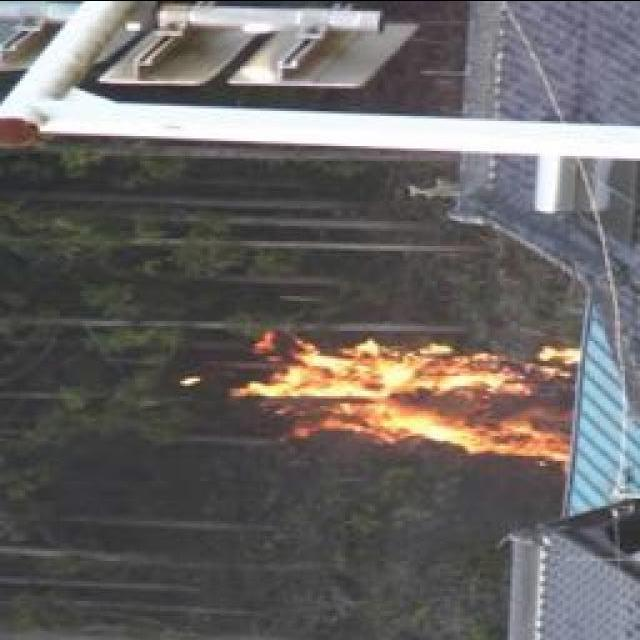Fire: (234, 330, 578, 460)
